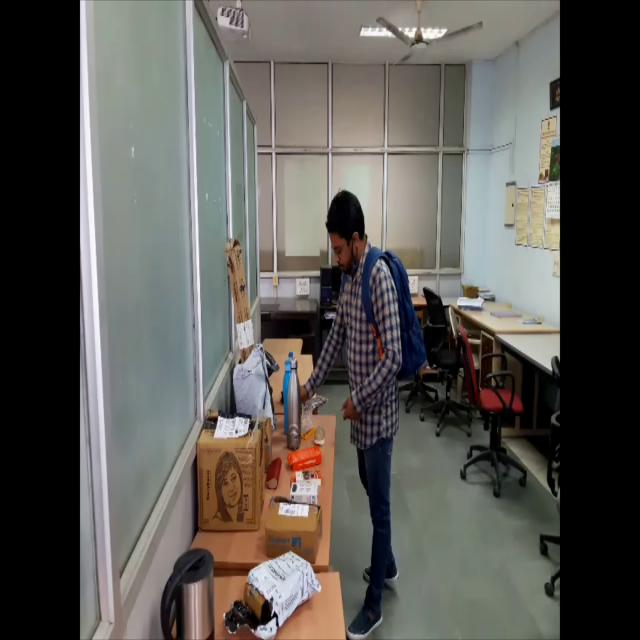normal: (283, 177, 430, 640)
